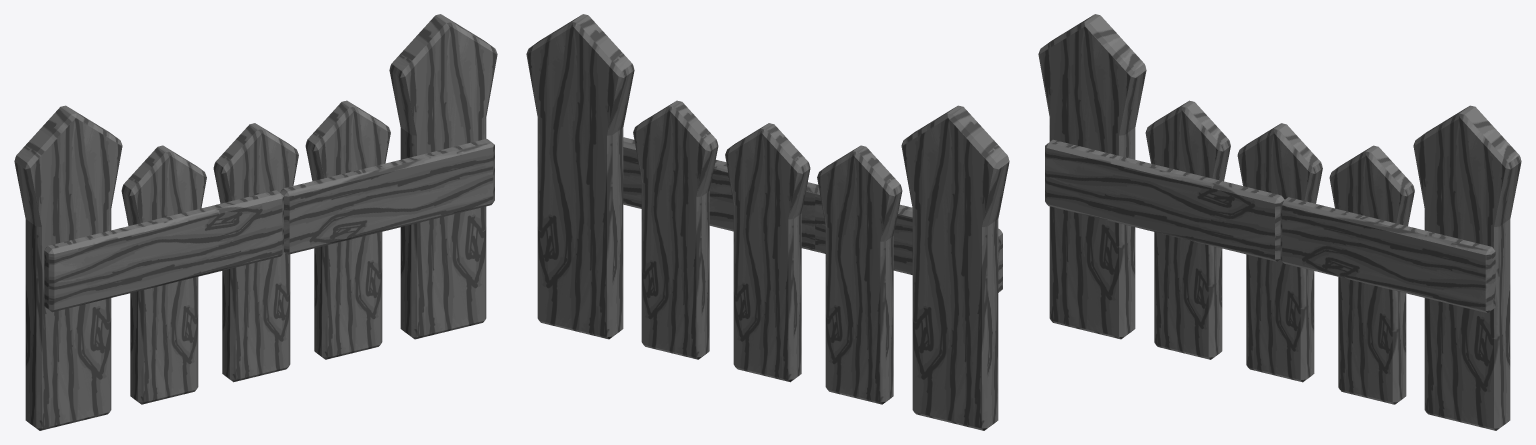
Rendered from Fence.fbx.
The picture shows the model from 3 angles, left to right: view 1: azimuth 30°, elevation 25°; view 2: azimuth 150°, elevation 25°; view 3: azimuth 330°, elevation 25°; orthographic projection.
Parts seen in each view (by area): view 1: Cube.199; view 2: Cube.199; view 3: Cube.199.
Part boxes in pixels (x1,y1,x2,y2): Cube.199: [14, 14, 497, 430]; Cube.199: [526, 14, 1009, 430]; Cube.199: [1038, 14, 1521, 430].
Size of the model in its own units: 66.77 by 41.68 by 5.68.
